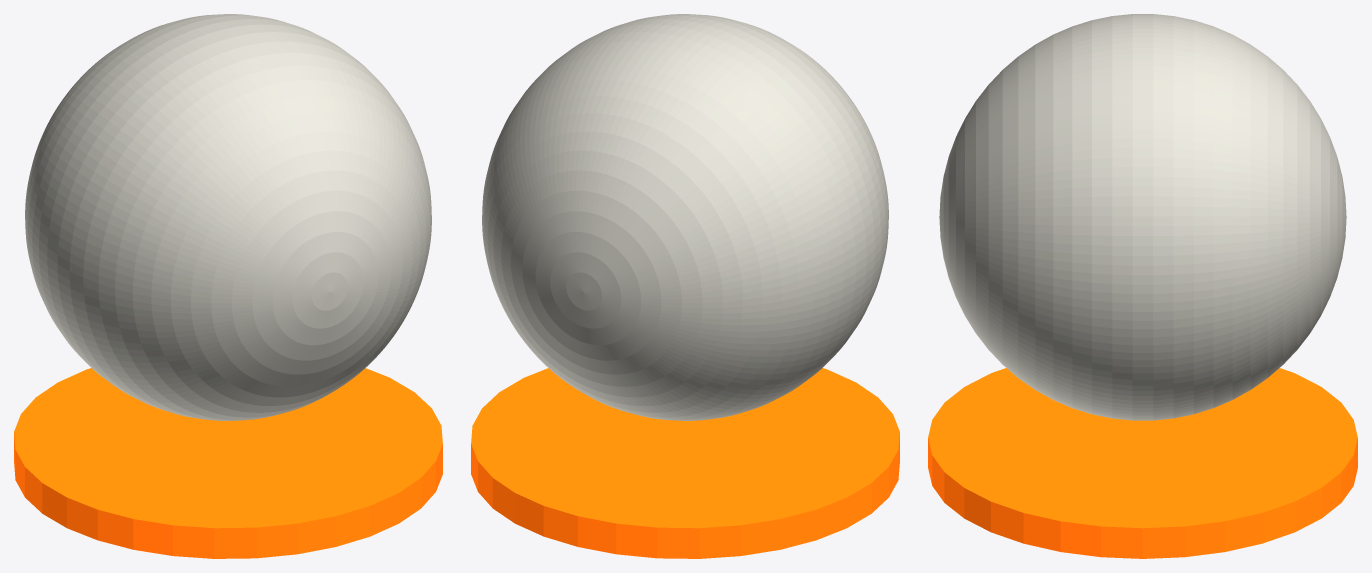
Rendered from spanish_soccer_ball.dae.
3 views of the same model, side by side, from view 1: azimuth 30°, elevation 25°; view 2: azimuth 150°, elevation 25°; view 3: azimuth 270°, elevation 25° (orthographic).
Visible parts, largest first — view 1: 11_05_Popular_Spanish_Soccer_Ball_part_01, 11_05_Popular_Spanish_Soccer_Ball_ROOT_base; view 2: 11_05_Popular_Spanish_Soccer_Ball_part_01, 11_05_Popular_Spanish_Soccer_Ball_ROOT_base; view 3: 11_05_Popular_Spanish_Soccer_Ball_part_01, 11_05_Popular_Spanish_Soccer_Ball_ROOT_base.
Boxes of the visible parts, box(x1,y1,x2,y2) form: 11_05_Popular_Spanish_Soccer_Ball_part_01: box(25, 14, 431, 420); 11_05_Popular_Spanish_Soccer_Ball_ROOT_base: box(14, 368, 442, 558); 11_05_Popular_Spanish_Soccer_Ball_part_01: box(482, 14, 888, 420); 11_05_Popular_Spanish_Soccer_Ball_ROOT_base: box(471, 368, 899, 558); 11_05_Popular_Spanish_Soccer_Ball_part_01: box(939, 14, 1346, 420); 11_05_Popular_Spanish_Soccer_Ball_ROOT_base: box(928, 368, 1357, 558).
Size of the model in its own units: 0.76 by 0.8491 by 0.76.
